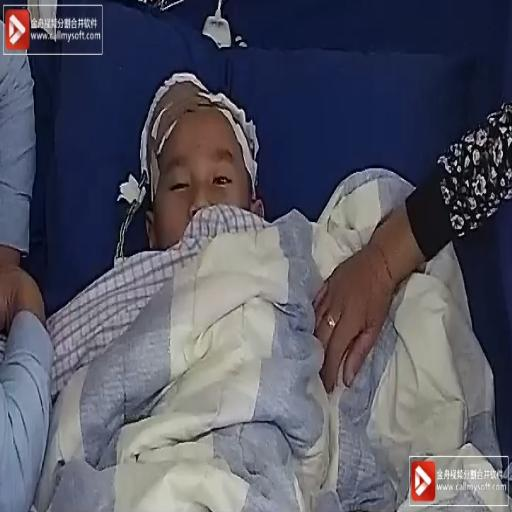Seizure: (154, 126, 269, 270), (147, 115, 262, 258)
